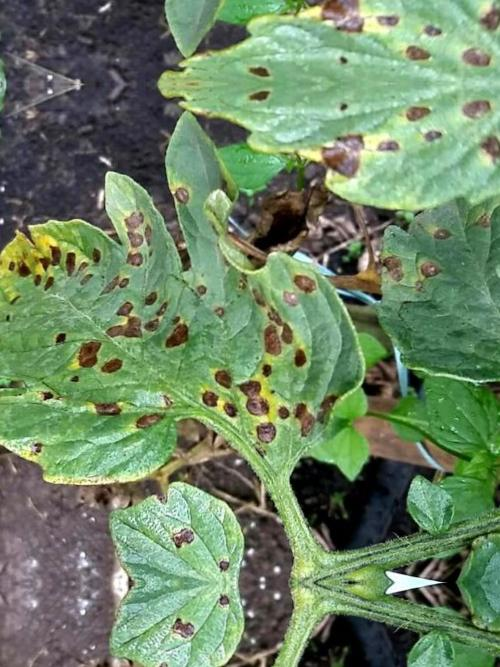Tomato Early blight leaf: (0, 120, 357, 452), (371, 178, 500, 410)
